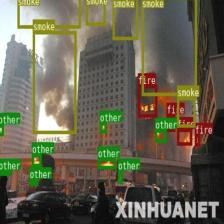fire: (138, 85, 157, 116), (177, 128, 191, 145), (166, 114, 175, 131), (194, 134, 199, 146)
smoke: (141, 0, 197, 95), (32, 30, 76, 133), (17, 0, 80, 28), (112, 0, 138, 39), (176, 96, 195, 127), (85, 0, 104, 24)
